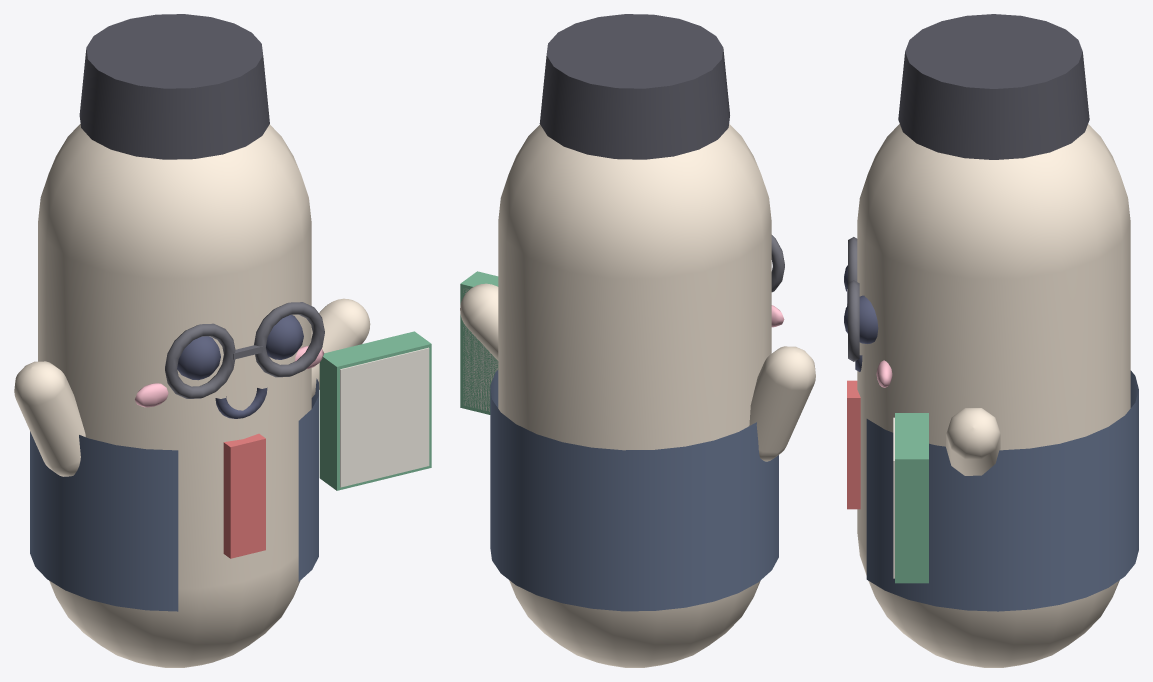
The model's file is kepsek.glb.
The picture shows the model from 3 angles, left to right: view 1: azimuth 30°, elevation 25°; view 2: azimuth 150°, elevation 25°; view 3: azimuth 270°, elevation 25°; orthographic projection.
Visible parts, largest first — view 1: kepsek; view 2: kepsek; view 3: kepsek.
Part boxes in pixels (<box>): kepsek: <box>14,14,431,667</box>; kepsek: <box>460,14,815,667</box>; kepsek: <box>844,14,1138,667</box>.
Size of the model in its own units: 0.6317 by 0.975 by 0.4312.
